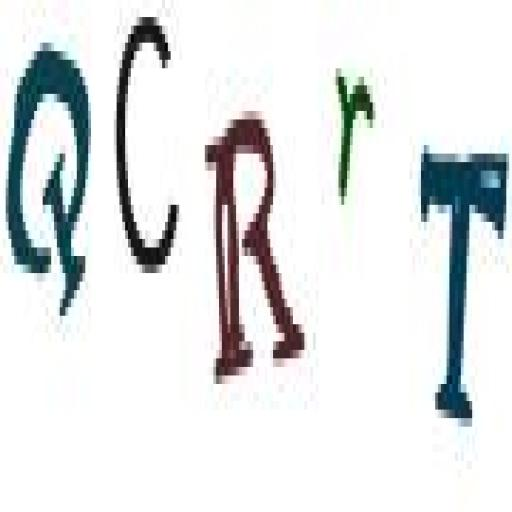C: (111, 13, 182, 288)
Q: (4, 36, 93, 322)
R: (202, 104, 308, 385)
T: (415, 128, 511, 435)
r: (332, 54, 377, 210)
